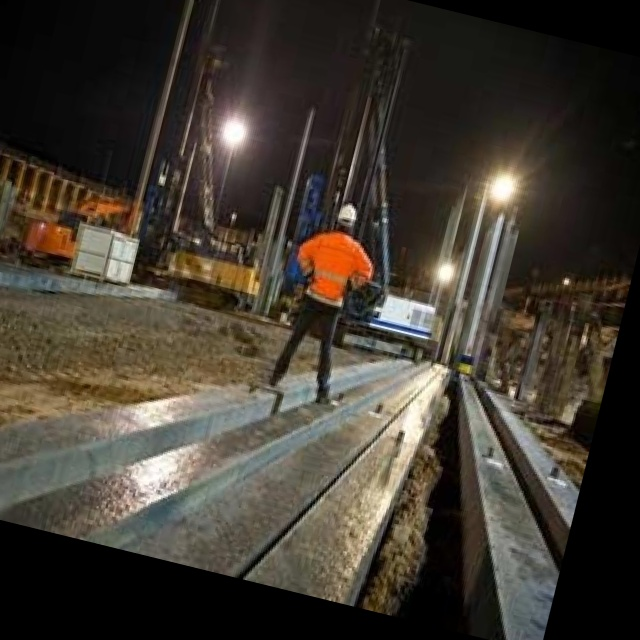Con_Chaleco: (303, 230, 365, 307)
